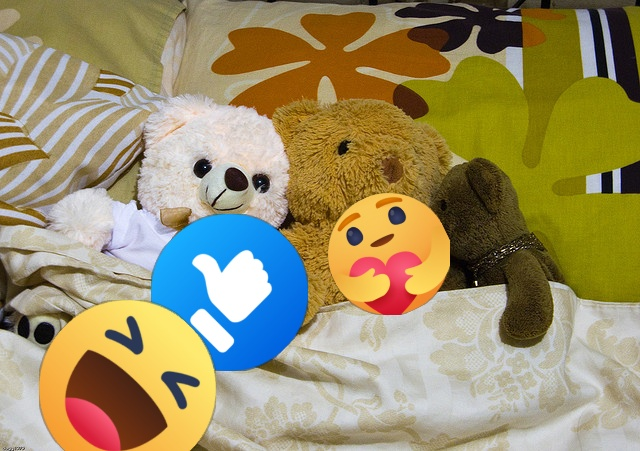care: (328, 193, 450, 315)
haha: (39, 300, 216, 451)
like: (151, 214, 308, 371)
